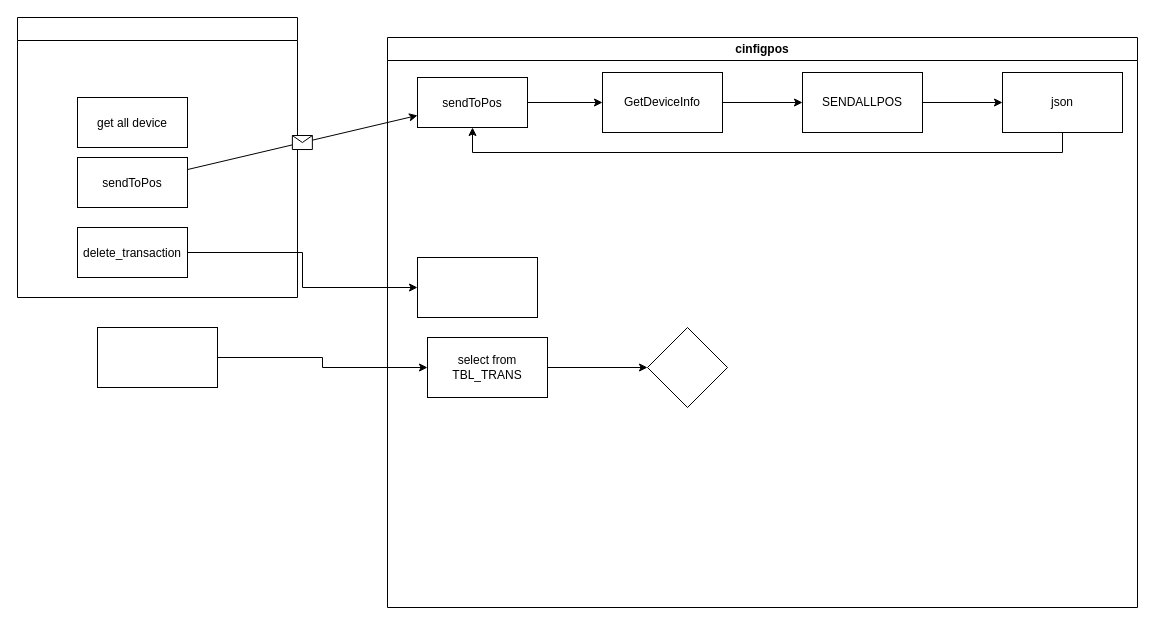
Some shapes in this 1155 by 625 pixel diagram are drawn without their labels. The shapes that lost their labels are listed below. From the top down, each one's box as (x1, y1, x2, y2) in pixels, then its label:
(16, 16, 298, 298): webservice
(416, 256, 538, 318): delete from DB
(96, 326, 218, 388): استعلام با ورودی های چهارتایی
(646, 326, 728, 408): اگر موفق بود
